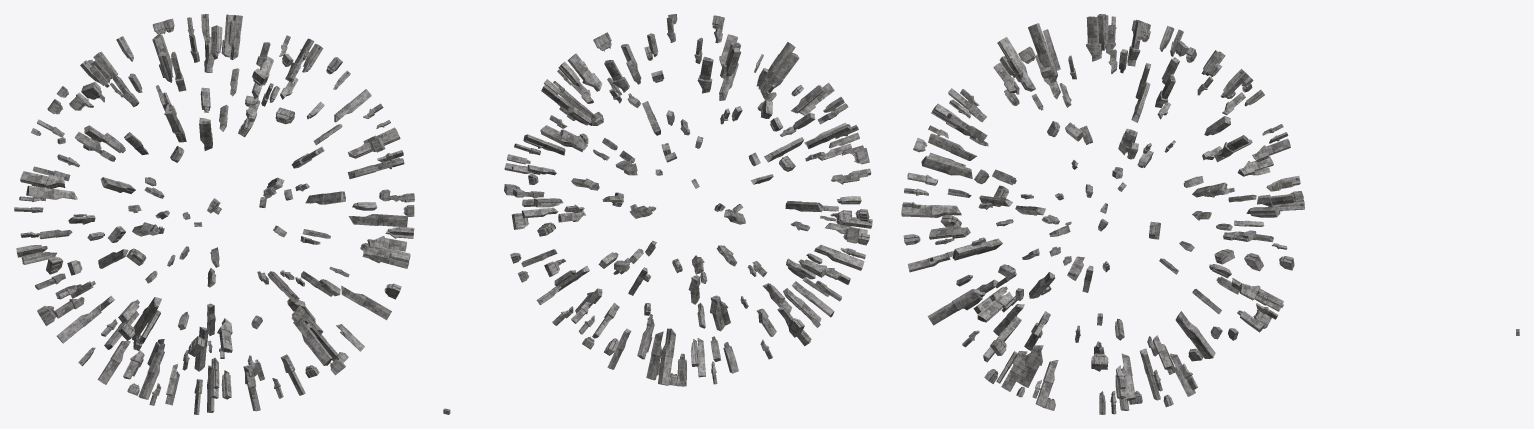
File: obstacles.fbx
3 renders of one model, left to right at view 1: azimuth 30°, elevation 25°; view 2: azimuth 150°, elevation 25°; view 3: azimuth 270°, elevation 25°, orthographic. The views are drawn at different scales.
Parts seen in each view (by area): view 1: Obstacle.149, Obstacle.124, Obstacle.164, Obstacle.019, Obstacle.113, Obstacle.059, Obstacle.154, Obstacle.194, Obstacle.049, Obstacle.009, Obstacle.153, Obstacle.044 (+4 smaller); view 2: Obstacle.049, Obstacle.104, Obstacle.114, Obstacle.118, Obstacle.014, Obstacle.143, Obstacle.059; view 3: Obstacle.104, Obstacle.049, Obstacle.079, Obstacle.124, Obstacle.009.
Boxes of the visible parts, bbox=[...] form: Obstacle.149: bbox=[348, 214, 407, 227]; Obstacle.124: bbox=[293, 322, 332, 365]; Obstacle.164: bbox=[341, 285, 391, 320]; Obstacle.019: bbox=[138, 349, 164, 399]; Obstacle.113: bbox=[20, 171, 65, 188]; Obstacle.059: bbox=[56, 304, 101, 343]; Obstacle.154: bbox=[26, 185, 77, 199]; Obstacle.194: bbox=[97, 340, 130, 384]; Obstacle.049: bbox=[132, 297, 161, 340]; Obstacle.009: bbox=[305, 191, 345, 204]; Obstacle.153: bbox=[367, 236, 406, 251]; Obstacle.044: bbox=[334, 89, 371, 122]; Obstacle.049: bbox=[658, 328, 675, 385]; Obstacle.104: bbox=[760, 52, 799, 99]; Obstacle.114: bbox=[814, 244, 864, 270]; Obstacle.118: bbox=[567, 54, 602, 91]; Obstacle.014: bbox=[646, 331, 663, 380]; Obstacle.143: bbox=[697, 56, 713, 93]; Obstacle.059: bbox=[791, 281, 834, 317]; Obstacle.104: bbox=[1028, 23, 1057, 82]; Obstacle.049: bbox=[1175, 311, 1215, 358]; Obstacle.079: bbox=[901, 204, 961, 217]; Obstacle.124: bbox=[927, 289, 981, 325]; Obstacle.009: bbox=[921, 156, 972, 178].
Size of the model in its own units: 200 by 199 by 307.
